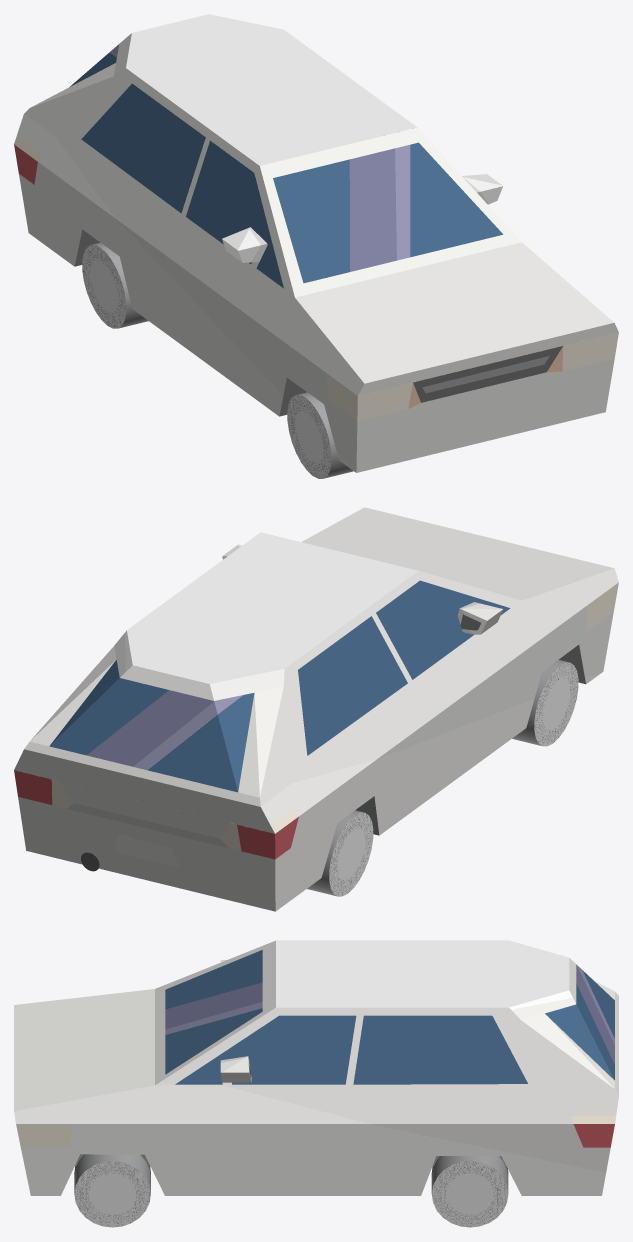
Rendered from car.glb.
3 renders of one model, top to bottom at view 1: azimuth 30°, elevation 25°; view 2: azimuth 150°, elevation 25°; view 3: azimuth 270°, elevation 25°, orthographic. The views are drawn at different scales.
Parts seen in each view (by area): view 1: group_1.003, group_1.039, group_1.011, group_1.001, group_1.030, group_1.029, group_1.002, group_1.027, group_1.020, group_1.026, group_1.028, instance_3.002 (+9 smaller); view 2: group_1.003, group_1.039, group_1.011, group_1.001, group_1.002, group_1.041, group_1.038, group_1.040, instance_2.002, instance_3.002, group_1.033, group_1.042 (+9 smaller); view 3: group_1.003, group_1.006, group_1.039, group_1.005, group_1.004, group_1.030, instance_1.002, instance_0.002, group_1.029, group_1.038, group_1.027, instance_0.003 (+9 smaller).
Part boxes in pixels (bbox=[...]): group_1.003: bbox=[24, 33, 618, 472]; group_1.039: bbox=[126, 14, 417, 165]; group_1.011: bbox=[17, 114, 283, 415]; group_1.001: bbox=[81, 83, 205, 213]; group_1.030: bbox=[273, 159, 349, 283]; group_1.029: bbox=[410, 142, 502, 257]; group_1.002: bbox=[186, 140, 283, 288]; group_1.027: bbox=[349, 148, 396, 271]; group_1.020: bbox=[413, 346, 562, 402]; group_1.026: bbox=[326, 373, 412, 421]; group_1.028: bbox=[395, 145, 410, 260]; instance_3.002: bbox=[82, 245, 126, 328]; group_1.003: bbox=[14, 507, 618, 911]; group_1.039: bbox=[127, 532, 417, 683]; group_1.011: bbox=[260, 698, 534, 911]; group_1.001: bbox=[298, 616, 407, 755]; group_1.002: bbox=[376, 580, 510, 679]; group_1.041: bbox=[148, 692, 254, 792]; group_1.038: bbox=[49, 660, 168, 755]; group_1.040: bbox=[86, 690, 214, 766]; instance_2.002: bbox=[534, 662, 578, 746]; instance_3.002: bbox=[329, 812, 373, 896]; group_1.033: bbox=[237, 816, 298, 859]; group_1.042: bbox=[133, 695, 242, 770]; group_1.003: bbox=[14, 940, 618, 1172]; group_1.006: bbox=[14, 1084, 605, 1195]; group_1.039: bbox=[276, 940, 569, 1007]; group_1.005: bbox=[353, 1015, 527, 1084]; group_1.004: bbox=[175, 1015, 356, 1084]; group_1.030: bbox=[165, 950, 262, 1009]; instance_1.002: bbox=[432, 1161, 508, 1227]; instance_0.002: bbox=[74, 1161, 150, 1227]; group_1.029: bbox=[165, 1008, 262, 1074]; group_1.038: bbox=[545, 983, 614, 1080]; group_1.027: bbox=[165, 982, 262, 1029]; instance_0.003: bbox=[89, 1173, 136, 1214].
Bounding box in the file's own units: 1.82 × 1.51 × 4.12.
